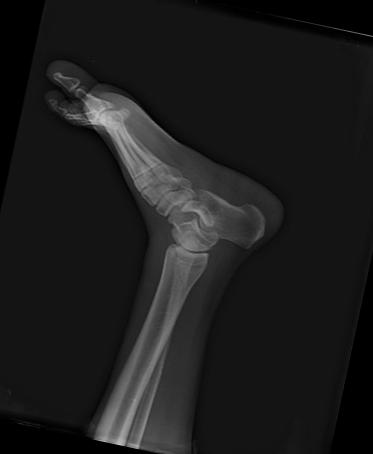fractured: (172, 255, 190, 303)
